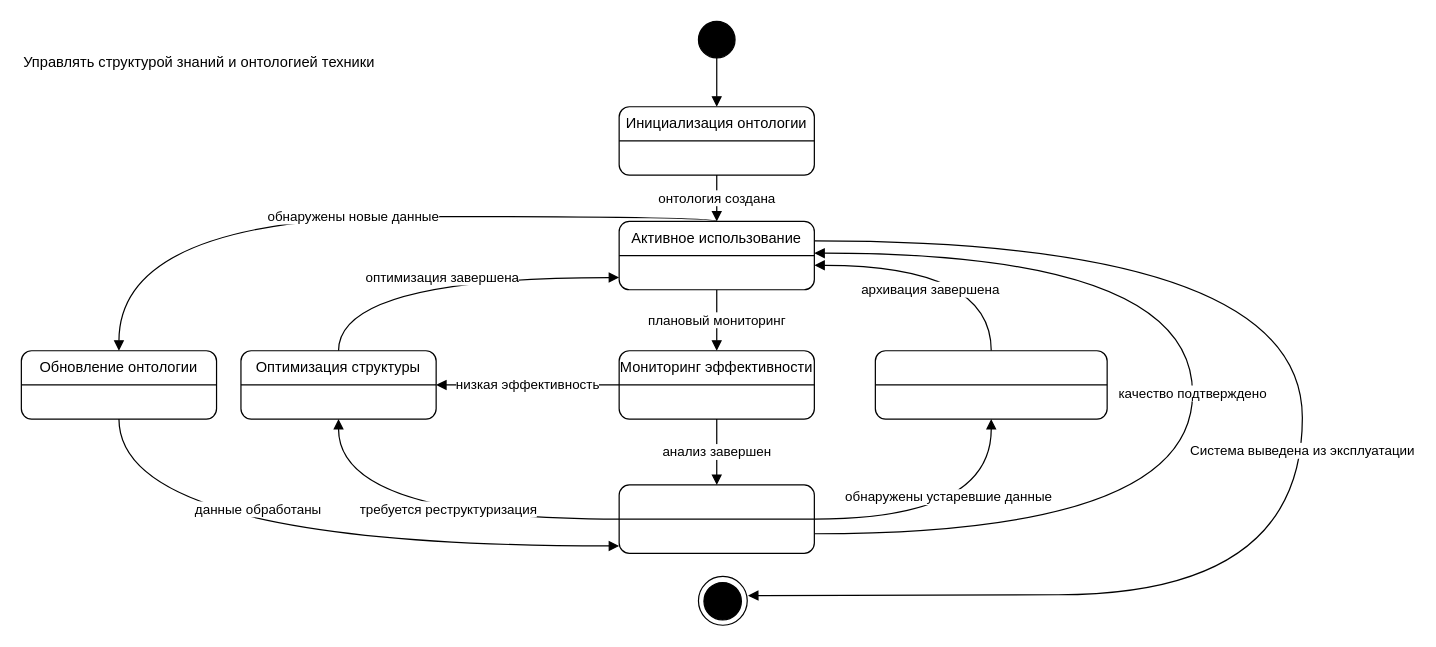
Image size: 1436x647. Some labels were removed from this diagram. The box of each missing label's shape, as (x1, y1, x2, y2) in pixels:
Архивация устаревших данных: (874, 350, 1107, 419)
Верификация качества: (618, 484, 814, 553)
